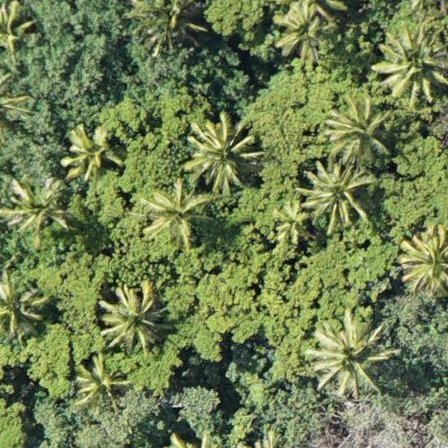palm_tree: (181, 117, 259, 193), (315, 315, 389, 389), (97, 284, 162, 352), (303, 163, 368, 231), (383, 25, 448, 93), (148, 184, 207, 249), (1, 179, 63, 239), (329, 99, 389, 161), (1, 268, 43, 345), (64, 123, 123, 176), (73, 355, 131, 408), (277, 1, 335, 54), (402, 231, 448, 295)
